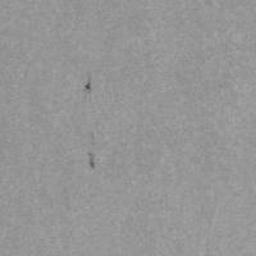Inclusion: (83, 72, 92, 93), (175, 72, 189, 83), (87, 152, 96, 169)
